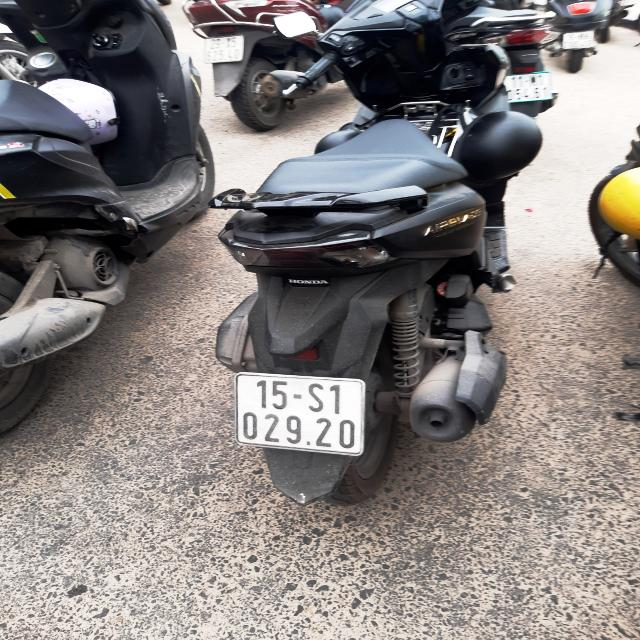license_plate: (230, 370, 373, 462), (202, 31, 248, 65)
